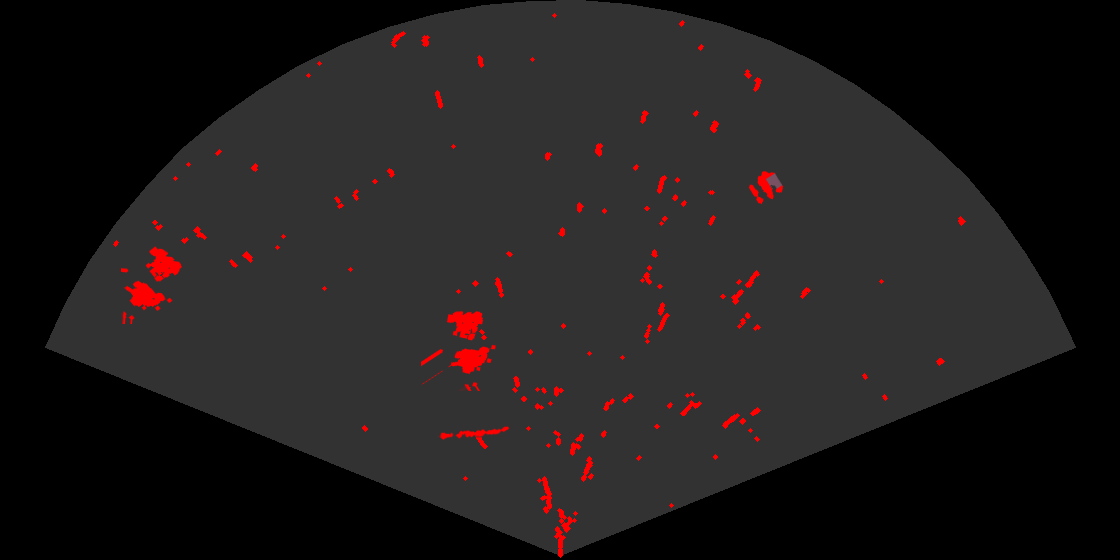ball: (747, 169, 785, 206)
cage: (421, 309, 497, 391), (121, 245, 183, 324)
chain: (438, 425, 510, 441)
